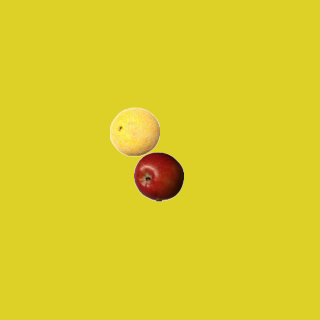Apple Braeburn: (133, 151, 183, 201)
Cantaloupe 1: (109, 106, 159, 156)
